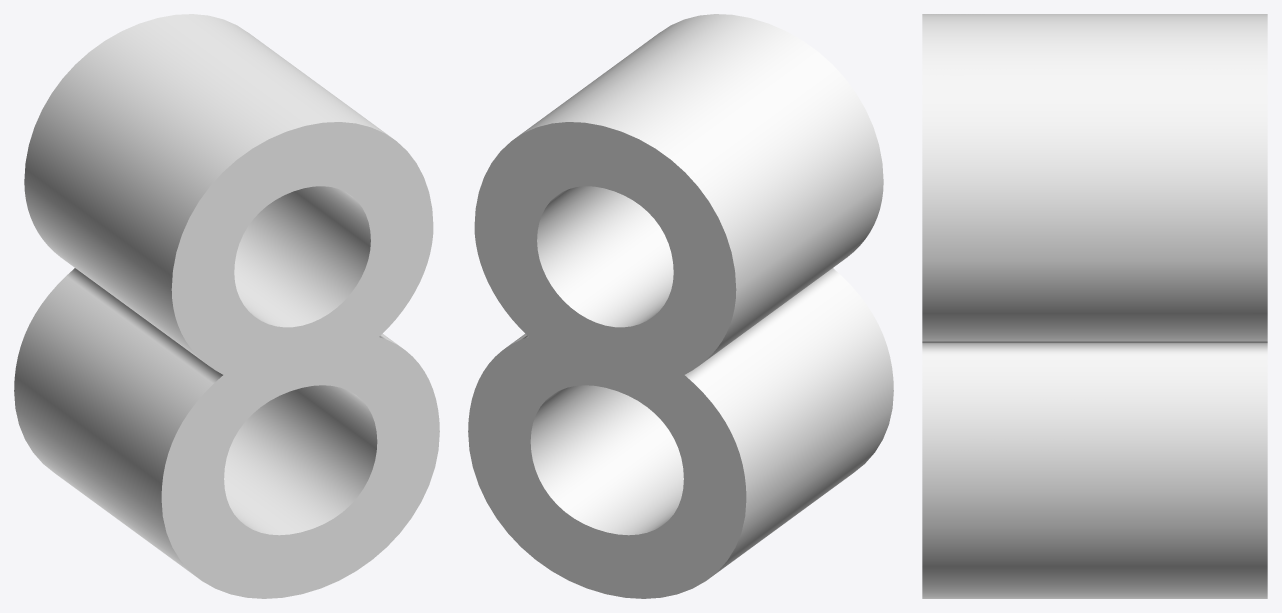
The picture shows the model from 3 angles, left to right: view 1: azimuth 30°, elevation 25°; view 2: azimuth 150°, elevation 25°; view 3: azimuth 270°, elevation 25°; orthographic projection. The views are drawn at different scales.
Visible parts, largest first — view 1: テキスト; view 2: テキスト; view 3: テキスト.
Boxes of the visible parts, bbox=[...] form: テキスト: bbox=[14, 14, 439, 598]; テキスト: bbox=[468, 14, 893, 598]; テキスト: bbox=[922, 14, 1267, 598].
Bounding box in the file's own units: 0.1109 × 0.1781 × 0.1017.
Materials: 1 (1 with a texture image).
